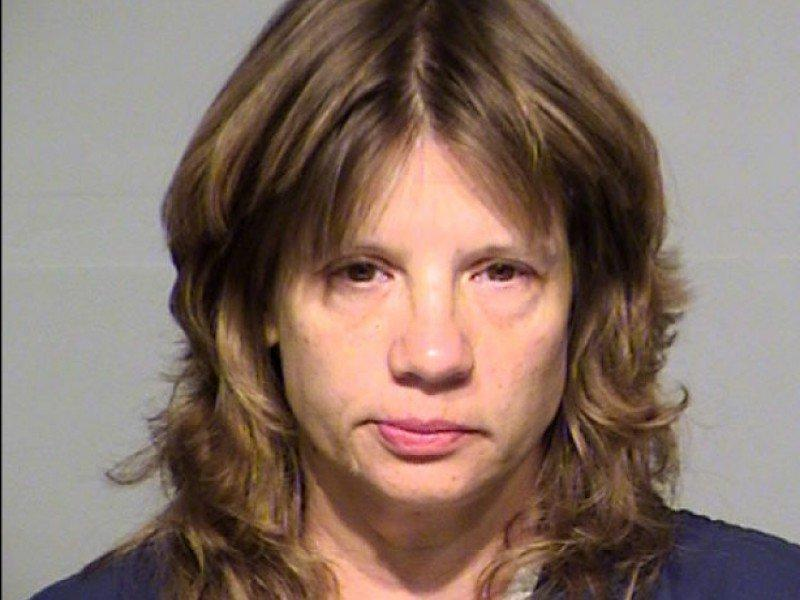Drunk: (298, 154, 553, 493)
